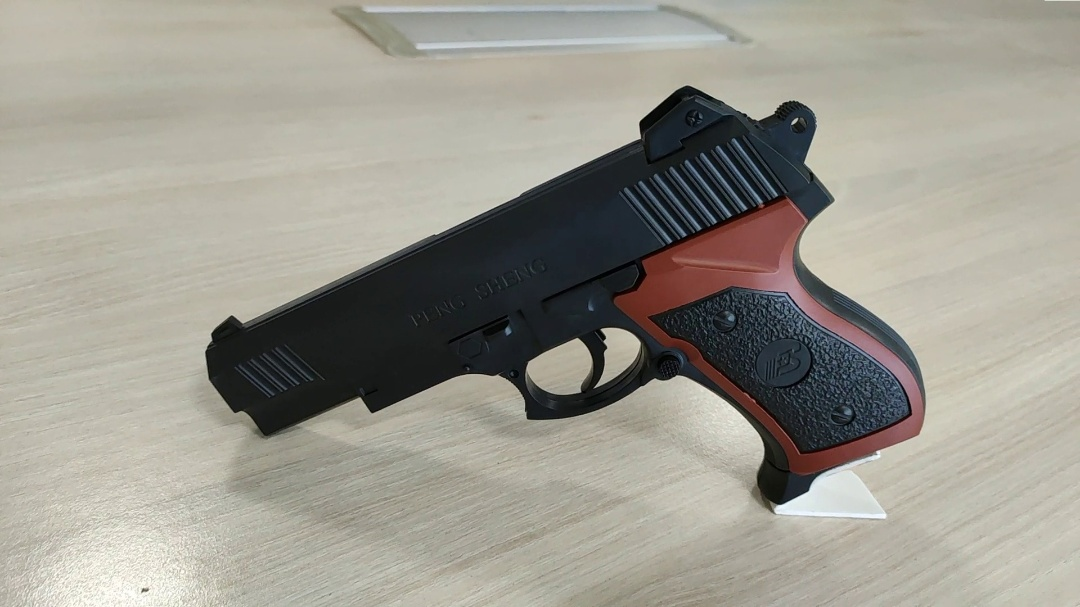gun: (200, 78, 931, 511)
